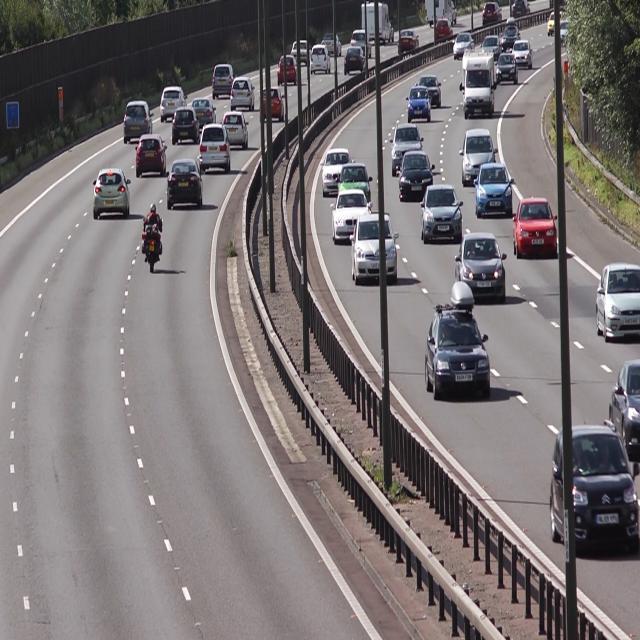Car: (552, 430, 638, 553), (427, 281, 491, 394), (455, 230, 507, 303), (350, 214, 401, 286), (509, 194, 560, 262), (597, 262, 640, 342), (420, 182, 466, 243), (473, 161, 517, 220), (329, 190, 375, 243), (463, 48, 497, 118), (461, 128, 500, 187), (90, 167, 132, 217), (167, 158, 205, 211), (397, 152, 434, 204), (202, 123, 231, 173), (134, 134, 168, 176), (124, 101, 155, 142), (258, 83, 288, 125), (172, 103, 200, 145), (222, 108, 251, 147), (208, 62, 234, 101), (408, 83, 432, 125), (160, 83, 186, 121), (309, 41, 333, 82), (231, 76, 256, 113)
